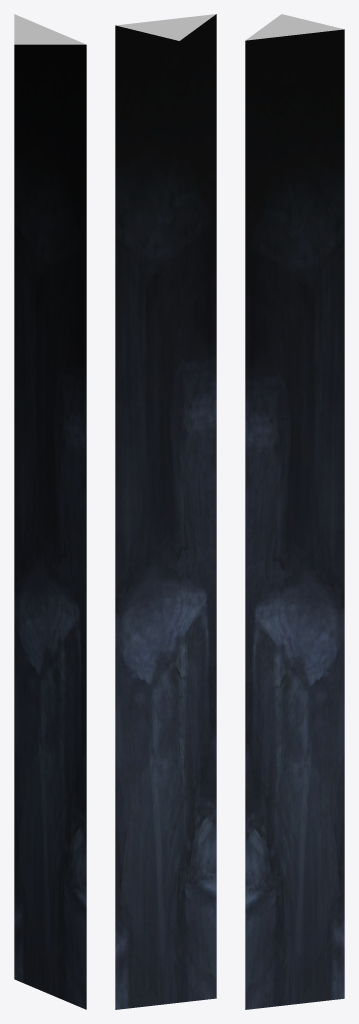
The model's file is mine_fade_convex_01.fbx.
3 views of the same model, side by side, from view 1: azimuth 90°, elevation 25°; view 2: azimuth 150°, elevation 25°; view 3: azimuth 330°, elevation 25° (orthographic).
Parts seen in each view (by area): view 1: mine_fade_convex_01-0; view 2: mine_fade_convex_01-0; view 3: mine_fade_convex_01-0.
Part boxes in pixels (x1=…): mine_fade_convex_01-0: x1=14, y1=14, x2=86, y2=1009; mine_fade_convex_01-0: x1=115, y1=14, x2=216, y2=1009; mine_fade_convex_01-0: x1=245, y1=14, x2=344, y2=1009.
Bounding box in the file's own units: 0.375 × 5.5 × 0.375.
